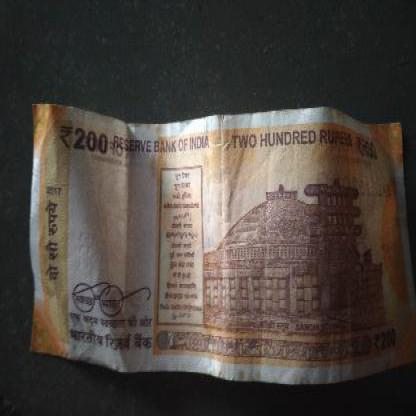New200Back: (33, 104, 411, 368)
